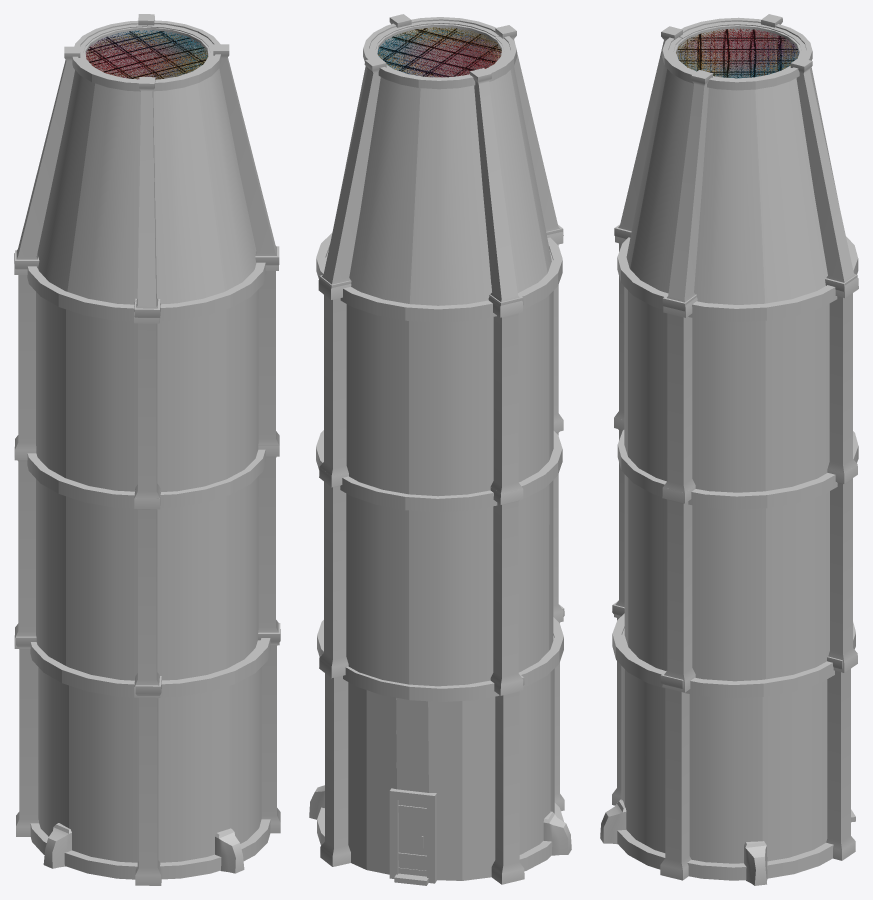
File: Hexenturm mit Props.fbx
The picture shows the model from 3 angles, left to right: view 1: azimuth 30°, elevation 25°; view 2: azimuth 150°, elevation 25°; view 3: azimuth 270°, elevation 25°; orthographic projection.
Visible parts, largest first — view 1: Stiege1; view 2: Stiege1, Tür; view 3: Stiege1.
Part boxes in pixels (<box>): Stiege1: <box>14,14,280,885</box>; Stiege1: <box>309,14,571,885</box>; Tür: <box>398,800,426,870</box>; Stiege1: <box>600,14,858,885</box>.
Size of the model in its own units: 7.67 by 24.62 by 7.37.
